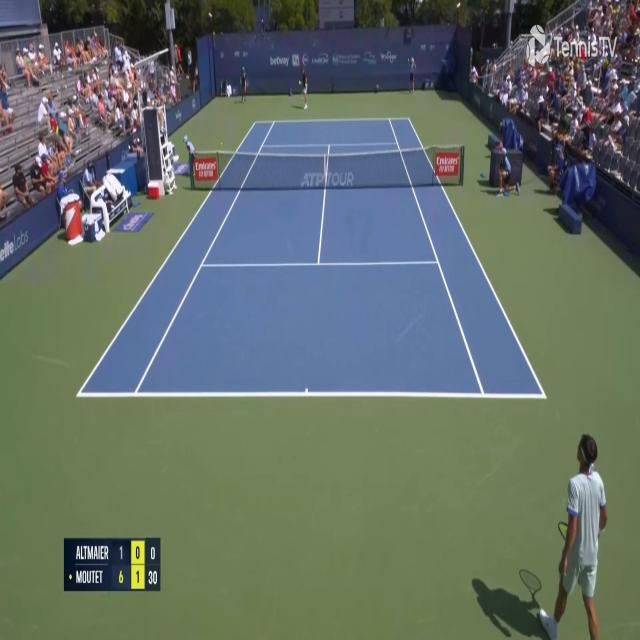tennis-player: (538, 430, 610, 640), (298, 66, 310, 111)
